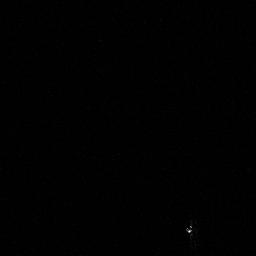ship: (183, 218, 198, 244)
